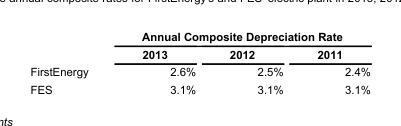table: (29, 29, 369, 95)
table column: (114, 29, 212, 95), (212, 29, 299, 95), (29, 29, 114, 95), (299, 29, 369, 95)
table column header: (29, 29, 369, 62)
table row: (29, 44, 369, 62), (29, 62, 369, 80), (29, 29, 369, 44), (29, 80, 369, 95)
table spanning cell: (114, 29, 369, 44)
